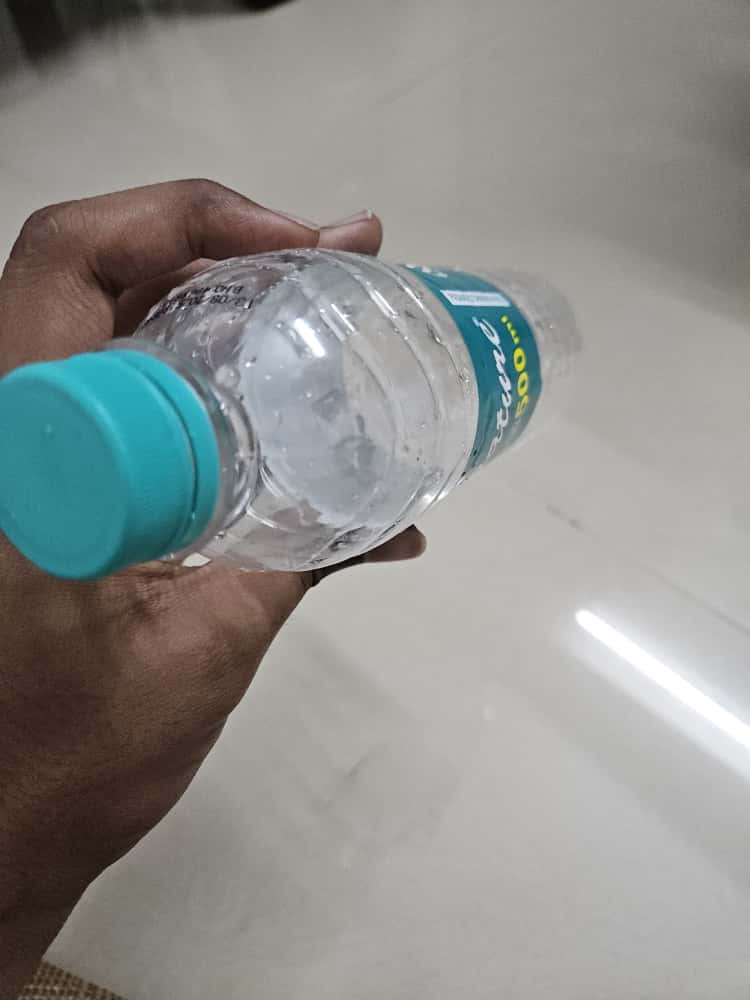dry: (1, 222, 612, 606)
